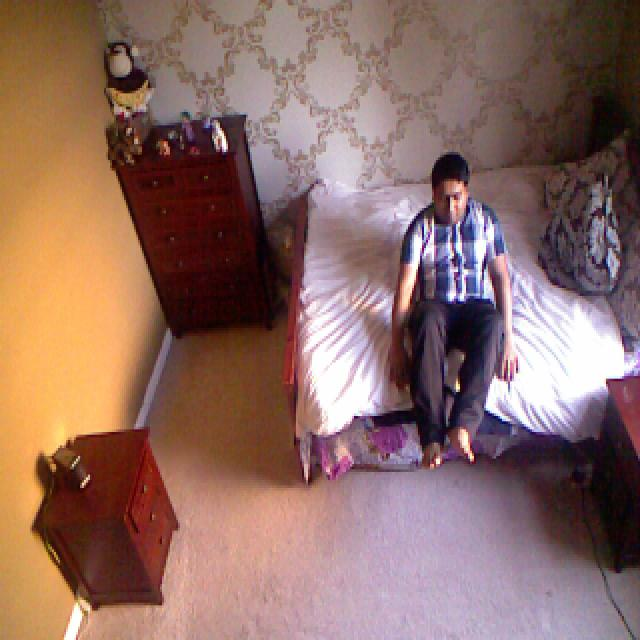bending: (387, 153, 519, 469)
